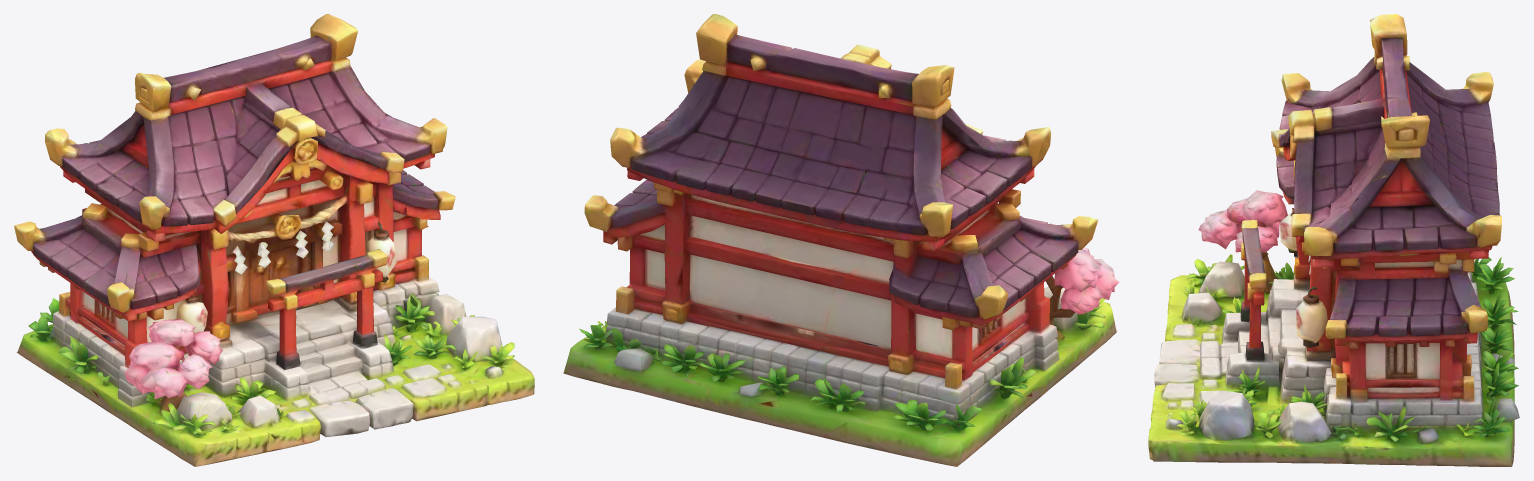
Rendered from jp_core.glb.
3 views of the same model, side by side, from view 1: azimuth 30°, elevation 25°; view 2: azimuth 150°, elevation 25°; view 3: azimuth 270°, elevation 25° (orthographic). The views are drawn at different scales.
Parts seen in each view (by area): view 1: model; view 2: model; view 3: model.
Part boxes in pixels (x1,y1,x2,y2): model: [14, 14, 534, 466]; model: [563, 14, 1119, 466]; model: [1148, 14, 1519, 466].
Bounding box in the file's own units: 1.9 × 1.45 × 1.58.
Materials: 1 (1 with a texture image).
